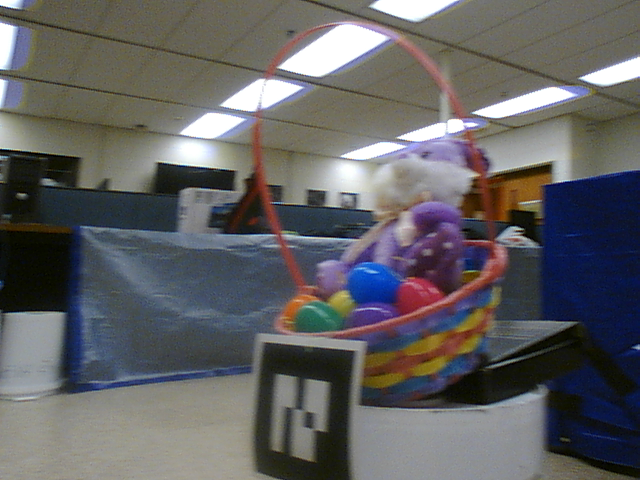bunny: (261, 27, 503, 400)
